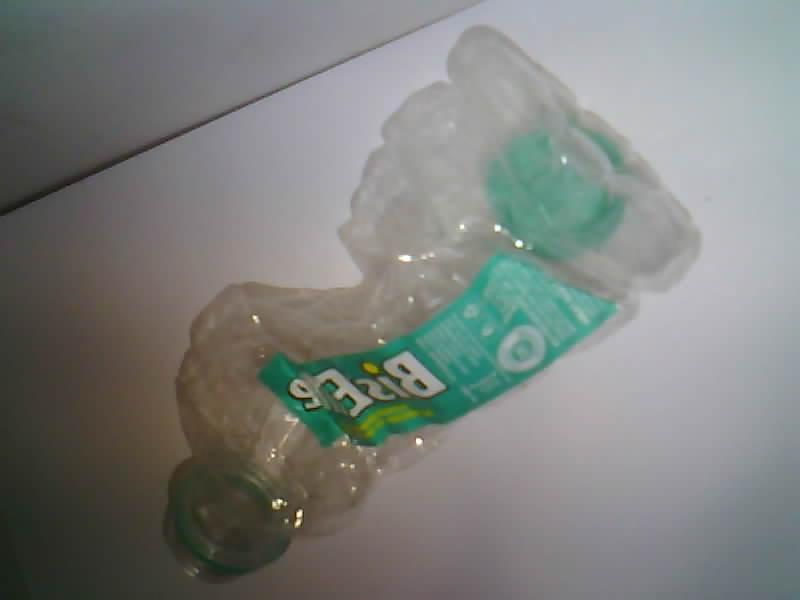non-biodegradable: (170, 26, 698, 576)
